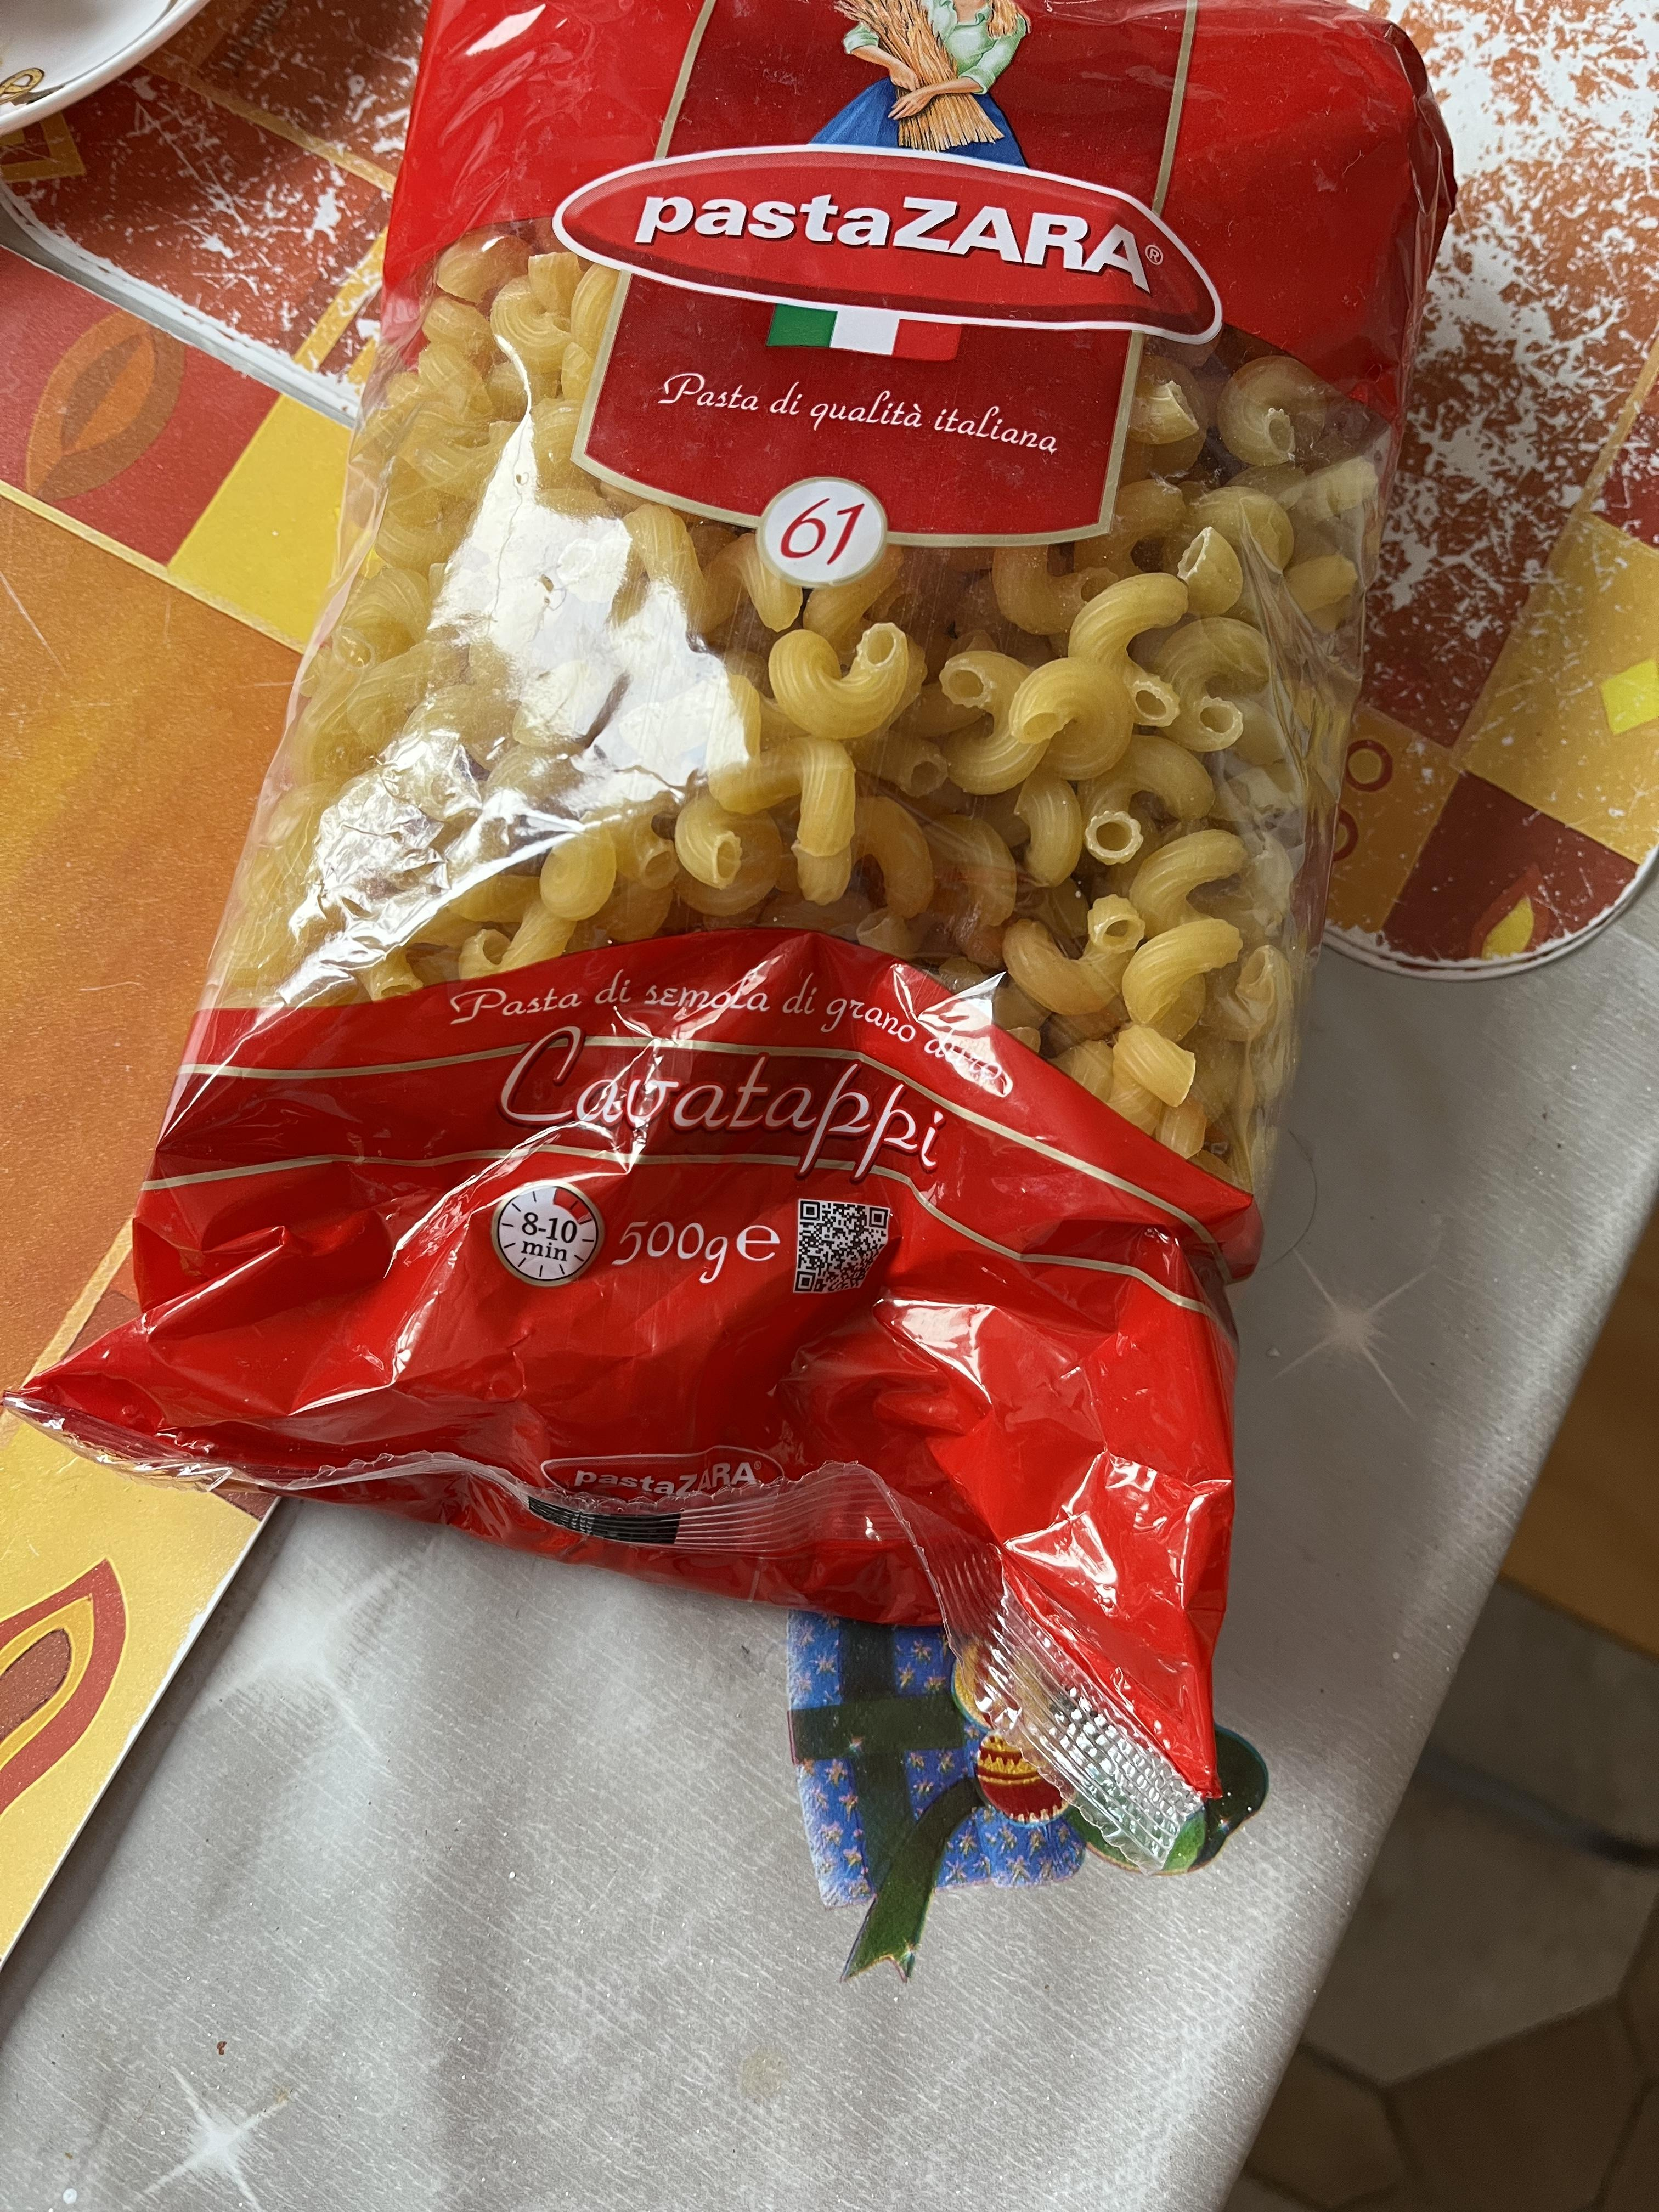qrcode: (795, 1200, 890, 1294)
